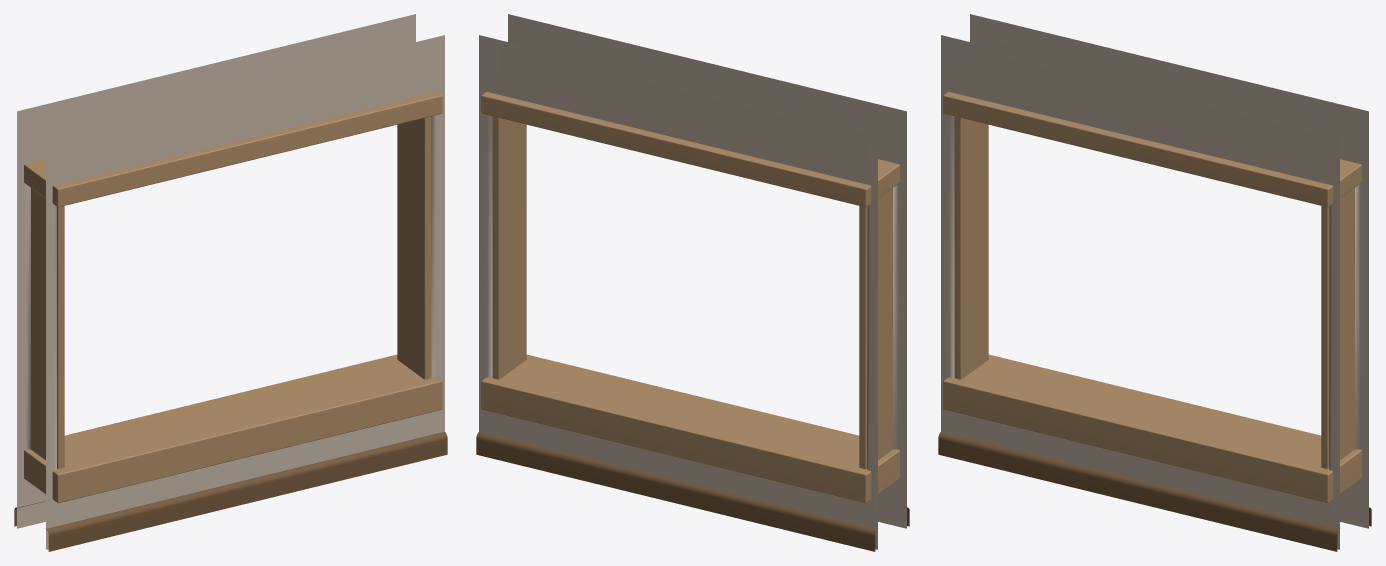
The model's file is SM_Building_Window_02.fbx.
The picture shows the model from 3 angles, left to right: view 1: azimuth 30°, elevation 25°; view 2: azimuth 150°, elevation 25°; view 3: azimuth 330°, elevation 25°; orthographic projection.
Parts seen in each view (by area): view 1: SM_Building_Window_02, Cube.008, Cube.009; view 2: SM_Building_Window_02, Cube.008, Cube.009; view 3: SM_Building_Window_02, Cube.008, Cube.009.
Boxes of the visible parts, x1,y1,x2,y2 form: SM_Building_Window_02: [14, 14, 447, 551]; Cube.008: [24, 92, 442, 503]; Cube.009: [31, 116, 431, 468]; SM_Building_Window_02: [476, 14, 909, 551]; Cube.008: [481, 92, 899, 503]; Cube.009: [492, 116, 892, 468]; SM_Building_Window_02: [938, 14, 1371, 551]; Cube.008: [943, 92, 1361, 503]; Cube.009: [954, 116, 1354, 468].
Size of what is drawn, in the model's own units: 400 by 400 by 67.41.
